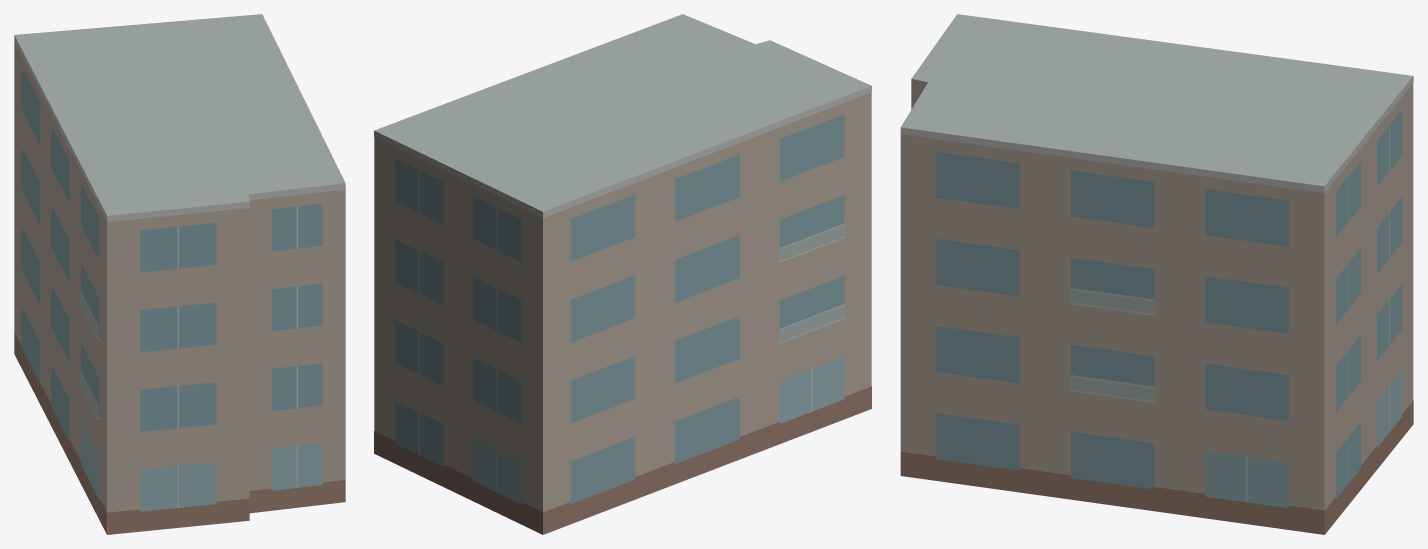
Rendered from survey-upis-32872792.glb.
The picture shows the model from 3 angles, left to right: view 1: azimuth 30°, elevation 25°; view 2: azimuth 150°, elevation 25°; view 3: azimuth 270°, elevation 25°; orthographic projection. The views are drawn at different scales.
Visible parts, largest first — view 1: survey-upis-32872792.tmp; view 2: survey-upis-32872792.tmp; view 3: survey-upis-32872792.tmp.
Boxes of the visible parts, <box> form: survey-upis-32872792.tmp: <box>14,14,345,534</box>; survey-upis-32872792.tmp: <box>374,14,871,534</box>; survey-upis-32872792.tmp: <box>900,14,1413,534</box>.
Size of the model in its own units: 13.16 by 12.4 by 16.55.
